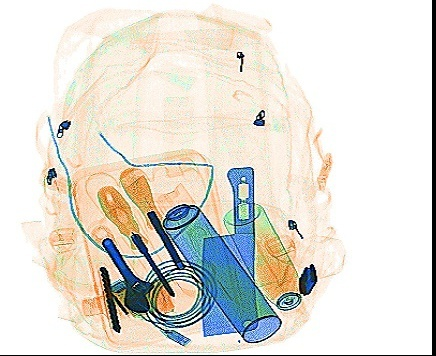knife: (195, 163, 260, 335)
pressure: (148, 179, 283, 344), (220, 200, 308, 315)
